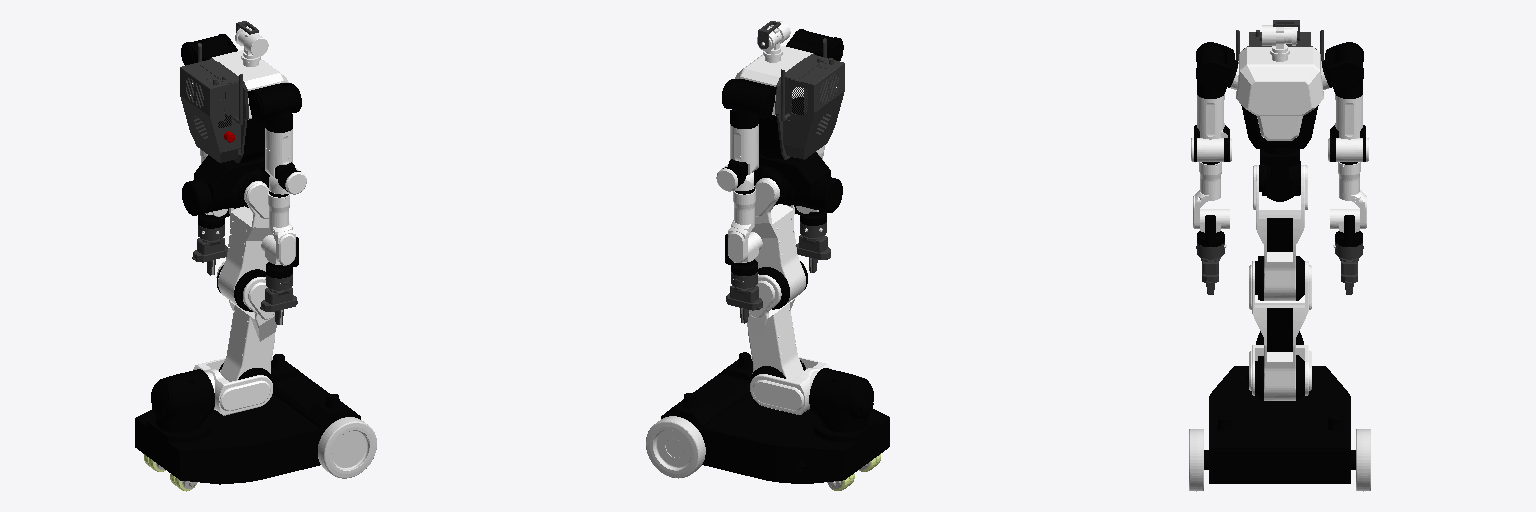
--- Facts derived from the render (not from the file) ---
Views: 3 orthographic renders of the robot side by side, from view 1: azimuth 30°, elevation 25°; view 2: azimuth 150°, elevation 25°; view 3: azimuth 270°, elevation 25°.
Robot: RBY1_A_v1.2 — 32 links, 31 joints (22 revolute, 2 continuous, 4 prismatic, 3 fixed); root link base; default pose: all joints at 0.
Links seen in each view (by area): view 1: base, link_torso_5, link_torso_2, link_torso_1, wheel_r, link_torso_4, link_torso_0, link_right_arm_2, link_right_arm_1, link_right_arm_3, link_right_arm_4, link_right_arm_5 (+6 smaller); view 2: base, link_torso_5, link_torso_2, link_torso_1, wheel_l, link_torso_4, link_torso_0, link_left_arm_2, link_left_arm_1, link_left_arm_3, link_left_arm_4, link_left_arm_5 (+5 smaller); view 3: base, link_torso_5, link_torso_1, link_torso_2, link_torso_4, link_right_arm_2, link_left_arm_2, link_right_arm_3, link_left_arm_3, link_right_arm_0, link_left_arm_0, link_right_arm_5 (+7 smaller).
Link boxes in pixels (box(x1,y1,x2,y2)): base: box(135, 354, 360, 491); link_torso_5: box(180, 43, 288, 162); link_torso_2: box(217, 181, 272, 311); link_torso_1: box(216, 262, 276, 409); wheel_r: box(318, 417, 376, 478); link_torso_4: box(182, 155, 268, 215); link_torso_0: box(193, 358, 272, 415); link_right_arm_2: box(264, 128, 306, 194); link_right_arm_1: box(260, 85, 295, 132); link_right_arm_3: box(267, 168, 298, 225); link_right_arm_4: box(269, 222, 295, 265); link_right_arm_5: box(261, 235, 298, 278); base: box(661, 352, 889, 490); link_torso_5: box(735, 38, 844, 159); link_torso_2: box(751, 178, 807, 309); link_torso_1: box(747, 267, 805, 382); wheel_l: box(646, 416, 705, 478); link_torso_4: box(754, 152, 842, 212); link_torso_0: box(750, 357, 830, 414); link_left_arm_2: box(716, 124, 759, 191); link_left_arm_1: box(727, 81, 763, 128); link_left_arm_3: box(722, 165, 756, 223); link_left_arm_4: box(728, 220, 754, 262); link_left_arm_5: box(725, 232, 762, 275); base: box(1204, 331, 1355, 483); link_torso_5: box(1228, 30, 1331, 151); link_torso_1: box(1249, 261, 1311, 400); link_torso_2: box(1253, 165, 1307, 300); link_torso_4: box(1260, 149, 1299, 201); link_right_arm_2: box(1191, 94, 1231, 161); link_left_arm_2: box(1328, 94, 1368, 161); link_right_arm_3: box(1197, 138, 1227, 193); link_left_arm_3: box(1332, 138, 1362, 193); link_right_arm_0: box(1196, 42, 1235, 92); link_left_arm_0: box(1324, 42, 1363, 92); link_right_arm_5: box(1197, 209, 1229, 246).
Bounding box of the posed robot: 0.6626 × 0.58 × 1.53 m (x, y, z).
32 mesh visuals loaded from 27 distinct referenced files (27 Collada DAE).

The robot description file, URDF, robot "RBY1_A_v1.2":
<?xml version="1.0"?>
<robot name="RBY1_A_v1.2">
    <mobile type="differential" xyz="0.228 0 0" rpy="0 0 0" joints="right_wheel left_wheel"
        params="0.53 0.1" /> <!-- wheel_base, wheel_radius -->

    <link name="base">
        <inertial>
            <mass value="60.08042639" />
            <origin rpy="0 0 0" xyz="-0.06157942 -0.00142271 0.13513861" />
            <inertia ixx="1.37742174" ixy="0.02521789" ixz="0.18565467" iyy="2.99386515" iyz="-0.00641869"
                izz="3.76085052" />
        </inertial>

        <visual>
            <geometry>
                <mesh filename="./meshes/base.dae" />
            </geometry>
        </visual>
    </link>

    <link name="wheel_r">
        <inertial>
            <mass value="1.37783736" />
            <origin rpy="0 0 0" xyz="0.0 -0.00073938 0.0" />
            <inertia ixx="0.00426657" ixy="0.0" ixz="0.0" iyy="0.00811815" iyz="0.0" izz="0.00426657" />
        </inertial>

        <visual>
            <geometry>
                <mesh filename="./meshes/WHEEL.dae" />
            </geometry>
        </visual>
    </link>

    <link name="wheel_l">
        <inertial>
            <mass value="1.37783736" />
            <origin rpy="0 0 0" xyz="0.0 0.00073938 0.0" />
            <inertia ixx="0.00426657" ixy="0.0" ixz="0.0" iyy="0.00811815" iyz="0.0" izz="0.00426657" />
        </inertial>

        <visual>
            <geometry>
                <mesh filename="./meshes/WHEEL.dae" />
            </geometry>
        </visual>
    </link>

    <link name="link_torso_0">
        <inertial>
            <mass value="2.24282123" />
            <origin rpy="0 0 0" xyz="-0.08848415 0.00021367 0.00000046" />
            <inertia ixx="0.01413496" ixy="0.00092982" ixz="-0.00000010" iyy="0.01005357"
                iyz="-0.00000008" izz="0.01892525" />
        </inertial>

        <visual>
            <geometry>
                <mesh filename="./meshes/LINK_1.dae" />
            </geometry>
        </visual>

        <collision>
            <origin xyz="-0.115 0 0" rpy="0 1.5708 0" />
            <geometry>
                <capsule radius="0.105" length="0.230" coltype="1" />
                <!-- <capsule sp="0.0 0.0 0.0" ep="-0.230 0.0 0.0" radius="0.105" length="1"/> -->
            </geometry>
        </collision>
    </link>

    <link name="link_torso_1">
        <inertial>
            <mass value="9.72162676" />
            <origin rpy="0 0 0" xyz="0.00728955 -0.01728522 0.06911380" />
            <inertia ixx="0.14862640" ixy="-0.00142621" ixz="-0.00951385" iyy="0.13854733"
                iyz="-0.00975351" izz="0.02912982" />
        </inertial>

        <visual>
            <geometry>
                <mesh filename="./meshes/LINK_2.dae" />
            </geometry>
        </visual>

        <collision>
            <origin xyz="0.0100 0 0.2400" rpy="0 0 0" />
            <geometry>
                <capsule radius="0.115" length="0.220" coltype="2" />
                <!-- <capsule sp="0.01 0.0 0.130" ep="0.01 0.0 0.350" radius="0.115"/> -->
            </geometry>
        </collision>
    </link>

    <link name="link_torso_2">
        <inertial>
            <mass value="9.21691850" />
            <origin rpy="0 0 0" xyz="0.00653835 -0.01769536 0.05636582" />
            <inertia ixx="0.12162270" ixy="-0.00127910" ixz="-0.00831678" iyy="0.11589190"
                iyz="-0.00873271" izz="0.03094484" />
        </inertial>

        <visual>
            <geometry>
                <mesh filename="./meshes/LINK_3.dae" />
            </geometry>
        </visual>

        <collision>
            <origin xyz="0.0250 0 0.2300" rpy="0 0 0" />
            <geometry>
                <capsule radius="0.095" length="0.1600" coltype="4" />
                <!-- <capsule sp="0.025 0.0 0.15" ep="0.025 0.0 0.310" radius="0.095"/> -->
            </geometry>
        </collision>
    </link>

    <link name="link_torso_3">
        <inertial>
            <mass value="4.18679196" />
            <origin rpy="0 0 0" xyz="-0.00574156 -0.01725975 0.00005610" />
            <inertia ixx="0.00849870" ixy="0.00040861" ixz="-0.00000263" iyy="0.00929513"
                iyz="-0.00001243" izz="0.00955442" />
        </inertial>

        <visual>
            <geometry>
                <mesh filename="./meshes/LINK_4.dae" />
            </geometry>
        </visual>
    </link>

    <link name="link_torso_4">
        <inertial>
            <mass value="4.45566276" />
            <origin rpy="0 0 0" xyz="-0.09097095 0.00005085 0.02601950" />
            <inertia ixx="0.01545991" ixy="0.00001883" ixz="-0.00780349" iyy="0.02550888" iyz="0.00000715"
                izz="0.01952563" />
        </inertial>

        <visual>
            <geometry>
                <mesh filename="./meshes/LINK_5.dae" />
            </geometry>
        </visual>


        <collision>
            <origin xyz="-0.070000 0 0.038500" rpy="0 1.5708 0" />
            <geometry>
                <capsule radius="0.105" length="0.2" coltype="8" />
                <!-- <capsule sp="0.03 0.0 0.0385" ep="-0.170 0.0 0.0385" radius="0.105"/> -->
            </geometry>
        </collision>
    </link>

    <link name="link_torso_5">
        <inertial>
            <mass value="14.73283950" />
            <origin rpy="0 0 0" xyz="-0.03419752 0.00073431 -0.02659420" />
            <inertia ixx="0.23934353" ixy="0.00158316" ixz="0.02926509" iyy="0.23140544" iyz="0.00018390"
                izz="0.18873182" />
        </inertial>

        <visual>
            <geometry>
                <mesh filename="./meshes/LINK_6.dae" />
            </geometry>
        </visual>

        <collision>
            <origin xyz="0 0 0.0075" rpy="0 0 0" />
            <geometry>
                <capsule radius="0.155" length="0.1350" coltype="16" />
                <!-- <capsule sp="0.0 0.0 -0.06" ep="0.0 0.0 0.075" radius="0.155"/> -->
            </geometry>
        </collision>
    </link>

    <link name="link_right_arm_0">
        <inertial>
            <mass value="1.26164242" />
            <origin rpy="0 0 0" xyz="-0.00316662 0.03437181 -0.00000030" />
            <inertia ixx="0.00230621" ixy="0.00039024" ixz="-0.00000256" iyy="0.00426418" iyz="0.00000118"
                izz="0.00432156" />
        </inertial>

        <visual>
            <geometry>
                <mesh filename="./meshes/LINK_7.dae" />
            </geometry>
        </visual>

        <collision>
            <origin xyz="-0.015 0.018 -0.008" rpy="0 1.5708 0" />
            <geometry>
                <capsule radius="0.075" length="0.0700" />
            </geometry>
        </collision>
    </link>

    <link name="link_right_arm_1">
        <inertial>
            <mass value="2.27287031" />
            <origin rpy="0 0 0" xyz="-0.00307855 -0.00124741 -0.01294324" />
            <inertia ixx="0.00388490" ixy="-0.00001477" ixz="0.00011465" iyy="0.00447034"
                iyz="-0.00010023" izz="0.00288341" />
        </inertial>

        <visual>
            <geometry>
                <mesh filename="./meshes/LINK_8.dae" />
            </geometry>
        </visual>

        <collision>
            <origin xyz="0 0 -0.1000" rpy="0 0 0" />
            <geometry>
                <capsule radius="0.05" length="0.2" coltype="32" />
                <!-- <capsule sp="0.0 0.0 0.0" ep="0.0 0.0 -0.200" radius="0.050"/> -->
            </geometry>
        </collision>
    </link>

    <link name="link_right_arm_2">
        <inertial>
            <mass value="2.46909439" />
            <origin rpy="0 0 0" xyz="0.00115434 -0.00196635 -0.16192524" />
            <inertia ixx="0.00980269" ixy="0.00005871" ixz="0.00051888" iyy="0.00924560" iyz="-0.00045932"
                izz="0.00329867" />
        </inertial>

        <visual>
            <geometry>
                <mesh filename="./meshes/LINK_9.dae" />
            </geometry>
        </visual>

        <collision>
            <origin xyz="0.0260 0 -0.2760" rpy="1.5708 0 0" />
            <geometry>
                <capsule radius="0.05" length="0.080000" coltype="64" />
                <!-- <capsule sp="0.026 -0.040 -0.276" ep="0.026 0.040 -0.276" radius="0.05"/> -->
            </geometry>
        </collision>
    </link>

    <link name="link_right_arm_3">
        <inertial>
            <mass value="2.26099493" />
            <origin rpy="0 0 0" xyz="-0.01603135 -0.00692891 -0.04549811" />
            <inertia ixx="0.00822606" ixy="0.00027620" ixz="-0.00156570" iyy="0.00844870" iyz="0.00076157"
                izz="0.00236614" />
        </inertial>

        <visual>
            <geometry>
                <mesh filename="./meshes/LINK_10.dae" />
            </geometry>
        </visual>

        <collision>
            <origin xyz="-0.0310 0 -0.1075" rpy="0 0 0" />
            <geometry>
                <capsule radius="0.04" length="0.1150" coltype="128" colaffinity="30" />
                <!-- <capsule sp="-0.031 0.0 -0.05" ep="-0.031 0.0 -0.165" radius="0.04"/> -->
            </geometry>
        </collision>
    </link>

    <link name="link_right_arm_4">
        <inertial>
            <mass value="0.42508710" />
            <origin rpy="0 0 0" xyz="-0.00000011 -0.02696036 0.06182110" />
            <inertia ixx="0.00082466" ixy="0.0" ixz="0.0" iyy="0.00075398" iyz="-0.00025338"
                izz="0.00039794" />
        </inertial>

        <visual>
            <geometry>
                <mesh filename="./meshes/LINK_11.dae" />
            </geometry>
        </visual>

        <collision>
            <origin xyz="0 -0.038 0.0175" rpy="0 0 0" />
            <geometry>
                <capsule radius="0.035" length="0.095" coltype="256" colaffinity="30" />
            </geometry>
        </collision>
    </link>

    <link name="link_right_arm_5">
        <inertial>
            <mass value="1.60506693" />
            <origin rpy="0 0 0" xyz="0.00592642 -0.00537804 -0.02584713" />
            <inertia ixx="0.00247557" ixy="-0.00004984" ixz="-0.00009861" iyy="0.00268241"
                iyz="0.00021452" izz="0.00166724" />
        </inertial>

        <visual>
            <geometry>
                <mesh filename="./meshes/LINK_12_v1.1.dae" />
            </geometry>
        </visual>

        <collision>
            <origin xyz="0 0 -0.1" rpy="0 0 0" />
            <geometry>
                <capsule radius="0.075" length="0.25" coltype="512" colaffinity="31" />
                <!-- <capsule sp="0.0 0.0 0.002" ep="0.0 0.0 -0.050" radius="0.075"/> -->
            </geometry>
        </collision>
    </link>

    <link name="link_right_arm_6">
        <inertial>
            <mass value="0.42751673" />
            <origin rpy="0 0 0" xyz="0.00024951 -0.00019562 -0.10711314" />
            <inertia ixx="0.00029613" ixy="-0.00000186" ixz="-0.00000157" iyy="0.00030651"
                iyz="0.00000221" izz="0.00048946" />
        </inertial>

        <visual>
            <geometry>
                <mesh filename="./meshes/LINK_13_v1.1.dae" />
            </geometry>
        </visual>
    </link>

    <link name="link_left_arm_0">
        <inertial>
            <mass value="1.26164242" />
            <origin rpy="0 0 0" xyz="-0.00316662 -0.03437151 0.00000242" />
            <inertia ixx="0.00230624" ixy="-0.00039022" ixz="0.00000269" iyy="0.00426418" iyz="0.00000108"
                izz="0.00432159" />
        </inertial>

        <visual>
            <geometry>
                <mesh filename="./meshes/LINK_14.dae" />
            </geometry>
        </visual>

        <collision>
            <origin xyz="-0.015 -0.018 -0.008" rpy="0 1.5708 0" />
            <geometry>
                <capsule radius="0.075" length="0.0700" />
            </geometry>
        </collision>
    </link>

    <link name="link_left_arm_1">
        <inertial>
            <mass value="1.88138658" />
            <origin rpy="0 0 0" xyz="-0.00183470 0.00040596 -0.01008733" />
            <inertia ixx="0.00295838" ixy="-0.00001176" ixz="0.00006949" iyy="0.00355208" iyz="0.00004467"
                izz="0.00230558" />
        </inertial>

        <visual>
            <geometry>
                <mesh filename="./meshes/LINK_15.dae" />
            </geometry>
        </visual>

        <collision>
            <origin xyz="0 0 -0.1000" rpy="0 0 0" />
            <geometry>
                <capsule radius="0.050" length="0.2000" colaffinity="768" />
            </geometry>
        </collision>
    </link>

    <link name="link_left_arm_2">
        <inertial>
            <mass value="2.35634437" />
            <origin rpy="0 0 0" xyz="0.00066086 -0.00038583 -0.15742972" />
            <inertia ixx="0.00842712" ixy="0.00000247" ixz="0.00036948" iyy="0.00802311" iyz="-0.00006550"
                izz="0.00295678" />
        </inertial>

        <visual>
            <geometry>
                <mesh filename="./meshes/LINK_16.dae" />
            </geometry>
        </visual>

        <collision>
            <origin xyz="0.0260 0 -0.2760" rpy="1.5708 0 0" />
            <geometry>
                <capsule radius="0.05" length="0.080000" colaffinity="768" />
            </geometry>
        </collision>
    </link>

    <link name="link_left_arm_3">
        <inertial>
            <mass value="2.00905891" />
            <origin rpy="0 0 0" xyz="-0.01565298 0.00793126 -0.04997943" />
            <inertia ixx="0.00756474" ixy="-0.00026771" ixz="-0.00155419" iyy="0.00772758"
                iyz="-0.00084364" izz="0.00199754" />
        </inertial>

        <visual>
            <geometry>
                <mesh filename="./meshes/LINK_17.dae" />
            </geometry>
        </visual>

        <collision>
            <origin xyz="-0.0310 0 -0.1075" rpy="0 0 0" />
            <geometry>
                <capsule radius="0.04" length="0.1150" colaffinity="926" />
            </geometry>
        </collision>
    </link>

    <link name="link_left_arm_4">
        <inertial>
            <mass value="0.42508710" />
            <origin rpy="0 0 0" xyz="0.00000011 0.02696036 0.06182110" />
            <inertia ixx="0.00082466" ixy="0.0" ixz="0.0" iyy="0.00075398" iyz="0.00025338"
                izz="0.00039794" />
        </inertial>

        <visual>
            <geometry>
                <mesh filename="./meshes/LINK_18.dae" />
            </geometry>
        </visual>

        <collision>
            <origin xyz="0 0.038000 0.017500" rpy="0 0 0" />
            <geometry>
                <capsule radius="0.035" length="0.095000" colaffinity="1022" />
            </geometry>
        </collision>
    </link>

    <link name="link_left_arm_5">
        <inertial>
            <mass value="1.60424243" />
            <origin rpy="0 0 0" xyz="0.00592398 -0.01167056 -0.02584035" />
            <inertia ixx="0.00247523" ixy="-0.00004992" ixz="-0.00009867" iyy="0.00268221"
                iyz="0.00021464" izz="0.00166703" />
        </inertial>

        <visual>
            <geometry>
                <mesh filename="./meshes/LINK_19_v1.1.dae" />
            </geometry>
        </visual>

        <collision>
            <origin xyz="0 0 -0.1" rpy="0 0 0" />
            <geometry>
                <capsule radius="0.075" length="0.25" colaffinity="1023" />
            </geometry>
        </collision>
    </link>

    <link name="link_left_arm_6">
        <inertial>
            <mass value="0.42751673" />
            <origin rpy="0 0 0" xyz="-0.00024951 0.00019562 -0.10711314" />
            <inertia ixx="0.00029613" ixy="-0.00000186" ixz="0.00000157" iyy="0.00030651"
                iyz="-0.00000221" izz="0.00048946" />
        </inertial>

        <visual>
            <geometry>
                <mesh filename="./meshes/LINK_20_v1.1.dae" />
            </geometry>
        </visual>
    </link>

    <link name="ee_right">
        <inertial>
            <mass value="0.46704998" />
            <origin rpy="0 0 0" xyz="0.00212703 0.00000615 -0.04287176" />
            <inertia ixx="0.00032067" ixy="0.00002383" ixz="-0.00000785" iyy="0.00059559"
                iyz="-0.00000007" izz="0.00052732" />
        </inertial>

        <visual>
            <geometry>
                <mesh filename="./meshes/EE_BODY.dae" />
            </geometry>
        </visual>
    </link>

    <link name="ee_finger_r1">
        <inertial>
            <mass value="0.03326999" />
            <origin rpy="0 0 0" xyz="0.00278346 -0.00000329 -0.02570112" />
            <inertia ixx="0.00001231" ixy="0.0" ixz="-0.00000042" iyy="0.00001066" iyz="0.0"
                izz="0.00000224" />
        </inertial>

        <visual>
            <geometry>
                <mesh filename="./meshes/EE_FINGER.dae" />
            </geometry>
        </visual>
    </link>

    <link name="ee_finger_r2">
        <inertial>
            <mass value="0.03326999" />
            <origin rpy="0 0 0" xyz="0.00278346 -0.00000329 -0.02570112" />
            <inertia ixx="0.00001231" ixy="0.0" ixz="-0.00000042" iyy="0.00001066" iyz="0.0"
                izz="0.00000224" />
        </inertial>

        <visual>
            <geometry>
                <mesh filename="./meshes/EE_FINGER.dae" />
            </geometry>
        </visual>
    </link>

    <link name="ee_left">
        <inertial>
            <mass value="0.46704998" />
            <origin rpy="0 0 0" xyz="0.00212703 0.00000615 -0.04287176" />
            <inertia ixx="0.00032067" ixy="0.00002383" ixz="-0.00000785" iyy="0.00059559"
                iyz="-0.00000007" izz="0.00052732" />
        </inertial>

        <visual>
            <geometry>
                <mesh filename="./meshes/EE_BODY.dae" />
            </geometry>
        </visual>
    </link>

    <link name="ee_finger_l1">
        <inertial>
            <mass value="0.03326999" />
            <origin rpy="0 0 0" xyz="0.00278346 -0.00000329 -0.02570112" />
            <inertia ixx="0.00001231" ixy="0.0" ixz="-0.00000042" iyy="0.00001066" iyz="0.0"
                izz="0.00000224" />
        </inertial>

        <visual>
            <geometry>
                <mesh filename="./meshes/EE_FINGER.dae" />
            </geometry>
        </visual>
    </link>

    <link name="ee_finger_l2">
        <inertial>
            <mass value="0.03326999" />
            <origin rpy="0 0 0" xyz="0.00278346 -0.00000329 -0.02570112" />
            <inertia ixx="0.00001231" ixy="0.0" ixz="-0.00000042" iyy="0.00001066" iyz="0.0"
                izz="0.00000224" />
        </inertial>

        <visual>
            <geometry>
                <mesh filename="./meshes/EE_FINGER.dae" />
            </geometry>
        </visual>
    </link>

    <link name="link_head_0">
        <inertial>
            <mass value="0.65731648" />
            <origin rpy="0 0 0" xyz="0.00024733 0.00033306 -0.01029730" />
            <inertia ixx="0.00046241" ixy="0.00000182" ixz="0.00001119" iyy="0.00043223" iyz="0.00000061"
                izz="0.00027509" />
        </inertial>

        <visual>
            <geometry>
                <mesh filename="./meshes/NECK_0.dae" />
            </geometry>
        </visual>
    </link>

    <link name="link_head_1">
        <inertial>
            <mass value="0.70476502" />
            <origin rpy="0 0 0" xyz="-0.00041643 0.00593524 -0.00289916" />
            <inertia ixx="0.00066212" ixy="-0.00000515" ixz="0.00000093" iyy="0.00036078"
                iyz="-0.00001312" izz="0.00059265" />
        </inertial>

        <visual>
            <geometry>
                <mesh filename="./meshes/NECK_1.dae" />
            </geometry>
        </visual>
    </link>

    <link name="link_head_2">
        <inertial>
            <mass value="0.95262738" />
            <origin rpy="0 0 0" xyz="0.05315320 0.00547509 0.05913909" />
            <inertia ixx="0.00114243" ixy="0.00027678" ixz="-0.00035426" iyy="0.00107559" iyz="0.00023641"
                izz="0.00151415" />
        </inertial>

        <visual>
            <geometry>
                <mesh filename="./meshes/NECK_2.dae" />
            </geometry>
        </visual>
    </link>


    <!-- Joints -->
    <joint name="right_wheel" type="continuous">
        <parent link="base" />
        <child link="wheel_r" />
        <origin rpy="0.0 0.0 0.0" xyz="0.228 -0.265 0.1" />
        <axis xyz="0 -1 0" />
        <limit velocity="15.707963268" acceleration="3.141592" />
    </joint>

    <joint name="left_wheel" type="continuous">
        <parent link="base" />
        <child link="wheel_l" />
        <origin rpy="0.0 0.0 0.0" xyz="0.228 0.265 0.1" />
        <axis xyz="0 -1 0" />
        <limit velocity="15.707963268" acceleration="3.141592" />
    </joint>

    <joint name="torso_0" type="revolute">
        <parent link="base" />
        <child link="link_torso_0" />
        <origin rpy="0.0 0.0 0.0" xyz="0.0 0.0 0.2805" />
        <axis xyz="1 0 0" />
        <!-- Nm, rad/s^2, rad/s, (min) rad, (max) rad -->
        <!-- 270Nm, 5rad/s^2, 120deg/s, -15deg, 15deg -->
        <limit effort="270.0"
            acceleration="5.0"
            velocity="2.09439510"
            lower="-0.261799388"
            upper="0.261799388"
        />
    </joint>

    <joint name="torso_1" type="revolute">
        <parent link="link_torso_0" />
        <child link="link_torso_1" />
        <origin rpy="0.0 0.0 0.0" xyz="0.0 0.0 0.0" />
        <axis xyz="0 1 0" />
        <!-- Nm, rad/s^2, rad/s, (min) rad, (max) rad -->
        <!-- 270Nm, 5rad/s^2, 120deg/s, -30deg, 90deg -->
        <limit effort="270.0"
            acceleration="5.0"
            velocity="2.09439510"
            lower="-0.523598776"
            upper="1.570796327"
        />
    </joint>

    <joint name="torso_2" type="revolute">
        <parent link="link_torso_1" />
        <child link="link_torso_2" />
        <origin rpy="0.0 0.0 0.0" xyz="0.0 0.0 0.350" />
        <axis xyz="0 1 0" />
        <!-- Nm, rad/s^2, rad/s, (min) rad, (max) rad -->
        <!-- 270Nm, 5rad/s^2, 120deg/s, -150deg, 90deg -->
        <limit effort="270.0"
            acceleration="5.0"
            velocity="2.09439510"
            lower="-2.617993878"
            upper="1.570796327"
        />
    </joint>

    <joint name="torso_3" type="revolute">
        <parent link="link_torso_2" />
        <child link="link_torso_3" />
        <origin rpy="0.0 0.0 0.0" xyz="0.0 0.0 0.350" />
        <axis xyz="0 1 0" />
        <!-- Nm, rad/s^2, rad/s, (min) rad, (max) rad -->
        <!-- 120Nm, 5rad/s^2, 180deg/s, -45deg, 90deg -->
        <limit effort="120.0"
            acceleration="5.0"
            velocity="3.141592654"
            lower="-0.785398163"
            upper="1.570796327"
        />
    </joint>

    <joint name="torso_4" type="revolute">
        <parent link="link_torso_3" />
        <child link="link_torso_4" />
        <origin rpy="0.0 0.0 0.0" xyz="0.0 0.0 0.0" />
        <axis xyz="1 0 0" />
        <!-- Nm, rad/s^2, rad/s, (min) rad, (max) rad -->
        <!-- 120Nm, 5rad/s^2, 180deg/s, -30deg, 30deg -->
        <limit effort="120.0"
            acceleration="5.0"
            velocity="3.141592654"
            lower="-0.523598776"
            upper="0.523598776"
        />
    </joint>

    <joint name="torso_5" type="revolute">
        <parent link="link_torso_4" />
        <child link="link_torso_5" />
        <origin rpy="0.0 0.0 0.0" xyz="0.0 0.0 0.309426548461" />
        <axis xyz="0 0 1" />
        <!-- Nm, rad/s^2, rad/s, (min) rad, (max) rad -->
        <!-- 120Nm, 5rad/s^2, 180deg/s, -135deg, 135deg -->
        <limit effort="120.0"
            acceleration="5.0"
            velocity="3.141592654"
            lower="-2.35619449"
            upper="2.35619449"
        />
    </joint>

    <joint name="right_arm_0" type="revolute">
        <parent link="link_torso_5" />
        <child link="link_right_arm_0" />
        <origin rpy="0.0 0.0 0.0" xyz="0.0 -0.220 0.080073451539 " />
        <axis xyz="0.0 0.93969262 -0.34202014" />
        <!-- Nm, rad/s^2, rad/s, (min) rad, (max) rad -->
        <!-- 70Nm, 10rad/s^2, 180deg/s, -180deg, 180deg -->
        <limit effort="70.0"
            acceleration="10.0"
            velocity="3.141592654"
            lower="-3.141592654"
            upper="3.141592654"
        />
    </joint>

    <joint name="right_arm_1" type="revolute">
        <parent link="link_right_arm_0" />
        <child link="link_right_arm_1" />
        <origin rpy="0.0 0.0 0.0" xyz="0.0 0.0 0.0" />
        <axis xyz="1 0 0" />
        <!-- Nm, rad/s^2, rad/s, (min) rad, (max) rad -->
        <!-- 70Nm, 10rad/s^2, 180deg/s, -180deg, 1deg -->
        <limit effort="70.0"
            acceleration="10.0"
            velocity="3.141592654"
            lower="-3.141592654"
            upper="0.017453293"
        />
    </joint>

    <joint name="right_arm_2" type="revolute">
        <parent link="link_right_arm_1" />
        <child link="link_right_arm_2" />
        <origin rpy="0.0 0.0 0.0" xyz="0.0 0.0 0.0" />
        <axis xyz="0 0 1" />
        <!-- Nm, rad/s^2, rad/s, (min) rad, (max) rad -->
        <!-- 70Nm, 10rad/s^2, 180deg/s, -180deg, 180deg -->
        <limit effort="70.0"
            acceleration="10.0"
            velocity="3.141592654"
            lower="-3.141592654"
            upper="3.141592654"
        />
    </joint>

    <joint name="right_arm_3" type="revolute">
        <parent link="link_right_arm_2" />
        <child link="link_right_arm_3" />
        <origin rpy="0.0 0.0 0.0" xyz="0.031 0.0 -0.276" />
        <axis xyz="0 1 0" />
        <!-- Nm, rad/s^2, rad/s, (min) rad, (max) rad -->
        <!-- 40Nm, 10rad/s^2, 180deg/s, -150deg, 1deg -->
        <limit effort="40.0"
            acceleration="10.0"
            velocity="3.141592654"
            lower="-2.617993878"
            upper="0.017453293"
        />
    </joint>

    <joint name="right_arm_4" type="revolute">
        <parent link="link_right_arm_3" />
        <child link="link_right_arm_4" />
        <origin rpy="0.0 0.0 0.0" xyz="-0.031 0.0 -0.256" />
        <axis xyz="0 0 1" />
        <!-- Nm, rad/s^2, rad/s, (min) rad, (max) rad -->
        <!-- 10Nm, 10rad/s^2, 360deg/s, -180deg, 180deg -->
        <limit effort="10.0"
            acceleration="10.0"
            velocity="6.283185308"
            lower="-3.141592654"
            upper="3.141592654"
        />
    </joint>

    <joint name="right_arm_5" type="revolute">
        <parent link="link_right_arm_4" />
        <child link="link_right_arm_5" />
        <origin rpy="0.0 0.0 0.0" xyz="0.0 0.0 0.0" />
        <axis xyz="0 1 0" />
        <!-- Nm, rad/s^2, rad/s, (min) rad, (max) rad -->
        <!-- 10Nm, 10rad/s^2, 360deg/s, -90deg, 110deg -->
        <limit effort="10.0"
            acceleration="10.0"
            velocity="6.283185308"
            lower="-1.570796327"
            upper="1.919862177"
        />
    </joint>

    <joint name="right_arm_6" type="revolute">
        <parent link="link_right_arm_5" />
        <child link="link_right_arm_6" />
        <origin rpy="0.0 0.0 0.0" xyz="0.0 0.0 0.0" />
        <axis xyz="0 0 1" />
        <!-- Nm, rad/s^2, rad/s, (min) rad, (max) rad -->
        <!-- 8Nm, 10rad/s^2, 120deg/s, -155deg, 155deg -->
        <limit effort="8.0"
            acceleration="10.0"
            velocity="2.094395102"
            lower="-2.705260340"
            upper="2.705260340"
        />
    </joint>

    <joint name="left_arm_0" type="revolute">
        <parent link="link_torso_5" />
        <child link="link_left_arm_0" />
        <origin rpy="0.0 0.0 0.0" xyz="0.0 0.220 0.080073452 " />
        <axis xyz="0.0 0.93969262 0.34202014" />
        <!-- Nm, rad/s^2, rad/s, (min) rad, (max) rad -->
        <!-- 70Nm, 10rad/s^2, 180deg/s, -180deg, 180deg -->
        <limit effort="70.0"
            acceleration="10.0"
            velocity="3.141592654"
            lower="-3.141592654"
            upper="3.141592654"
        />
    </joint>

    <joint name="left_arm_1" type="revolute">
        <parent link="link_left_arm_0" />
        <child link="link_left_arm_1" />
        <origin rpy="0.0 0.0 0.0" xyz="0.0 0.0 0.0" />
        <axis xyz="1 0 0" />
        <!-- Nm, rad/s^2, rad/s, (min) rad, (max) rad -->
        <!-- 70Nm, 10rad/s^2, 180deg/s, -1deg, 180deg -->
        <limit effort="70.0"
            acceleration="10.0"
            velocity="3.141592654"
            lower="-0.017453293"
            upper="3.141592654"
        />
    </joint>

    <joint name="left_arm_2" type="revolute">
        <parent link="link_left_arm_1" />
        <child link="link_left_arm_2" />
        <origin rpy="0.0 0.0 0.0" xyz="0.0 0.0 0.0" />
        <axis xyz="0 0 1" />
        <!-- Nm, rad/s^2, rad/s, (min) rad, (max) rad -->
        <!-- 70Nm, 10rad/s^2, 180deg/s, -180deg, 180deg -->
        <limit effort="70.0"
            acceleration="10.0"
            velocity="3.141592654"
            lower="-3.141592654"
            upper="3.141592654"
        />
    </joint>

    <joint name="left_arm_3" type="revolute">
        <parent link="link_left_arm_2" />
        <child link="link_left_arm_3" />
        <origin rpy="0.0 0.0 0.0" xyz="0.031 0.0 -0.276" />
        <axis xyz="0 1 0" />
        <!-- Nm, rad/s^2, rad/s, (min) rad, (max) rad -->
        <!-- 40Nm, 10rad/s^2, 180deg/s, -150deg, 1deg -->
        <limit effort="40.0"
            acceleration="10.0"
            velocity="3.141592654"
            lower="-2.617993878"
            upper="0.017453293"
        />
    </joint>

    <joint name="left_arm_4" type="revolute">
        <parent link="link_left_arm_3" />
        <child link="link_left_arm_4" />
        <origin rpy="0.0 0.0 0.0" xyz="-0.031 0.0 -0.256" />
        <axis xyz="0 0 1" />
        <!-- Nm, rad/s^2, rad/s, (min) rad, (max) rad -->
        <!-- 10Nm, 10rad/s^2, 360deg/s, -180deg, 180deg -->
        <limit effort="10.0"
            acceleration="10.0"
            velocity="6.283185308"
            lower="-3.141592654"
            upper="3.141592654"
        />
    </joint>

    <joint name="left_arm_5" type="revolute">
        <parent link="link_left_arm_4" />
        <child link="link_left_arm_5" />
        <origin rpy="0.0 0.0 0.0" xyz="0.0 0.0 0.0" />
        <axis xyz="0 1 0" />
        <!-- Nm, rad/s^2, rad/s, (min) rad, (max) rad -->
        <!-- 10Nm, 10rad/s^2, 360deg/s, -90deg, 110deg -->
        <limit effort="10.0"
            acceleration="10.0"
            velocity="6.283185308"
            lower="-1.570796327"
            upper="1.919862177"
        />
    </joint>

    <joint name="left_arm_6" type="revolute">
        <parent link="link_left_arm_5" />
        <child link="link_left_arm_6" />
        <origin rpy="0.0 0.0 0.0" xyz="0.0 0.0 0.0" />
        <axis xyz="0 0 1" />
        <!-- Nm, rad/s^2, rad/s, (min) rad, (max) rad -->
        <!-- 8Nm, 10rad/s^2, 120deg/s, -155deg, 155deg -->
        <limit effort="8.0"
            acceleration="10.0"
            velocity="2.094395102"
            lower="-2.705260340"
            upper="2.705260340"
        />
    </joint>

    <joint name="tool_right" type="fixed">
        <parent link="link_right_arm_6" />
        <child link="ee_right" />
        <origin rpy="0.0 0.0 0.0" xyz="0.0 0.0 -0.1261" />
        <axis xyz="0 0 1" />
    </joint>

    <joint name="gripper_finger_r1" type="prismatic" in_model_type="fixed">
        <parent link="ee_right" />
        <child link="ee_finger_r1" />
        <origin rpy="0.0 0.0 0.0" xyz="0.003 0.0 -0.075" />
        <axis xyz="-1 0 0" />
        <limit effort="1000" velocity="0.05" lower="-0.05" upper="0" />
    </joint>

    <joint name="gripper_finger_r2" type="prismatic" in_model_type="fixed">
        <parent link="ee_right" />
        <child link="ee_finger_r2" />
        <origin rpy="0.0 0.0 3.1415926535" xyz="-0.003 0.0 -0.075" />
        <axis xyz="1 0 0" />
        <limit effort="1000" velocity="0.05" lower="0" upper="0.05" />
    </joint>

    <joint name="tool_left" type="fixed">
        <parent link="link_left_arm_6" />
        <child link="ee_left" />
        <origin rpy="0.0 0.0 0" xyz="0.0 0.0 -0.1261" />
        <axis xyz="0 0 1" />
    </joint>

    <joint name="gripper_finger_l1" type="prismatic" in_model_type="fixed">
        <parent link="ee_left" />
        <child link="ee_finger_l1" />
        <origin rpy="0.0 0.0 0.0" xyz="0.003 0.0 -0.075" />
        <axis xyz="-1 0 0" />
        <limit effort="1000" velocity="0.05" lower="-0.05" upper="0" />
    </joint>

    <joint name="gripper_finger_l2" type="prismatic" in_model_type="fixed">
        <parent link="ee_left" />
        <child link="ee_finger_l2" />
        <origin rpy="0.0 0.0 3.1415926535" xyz="-0.003 0.0 -0.075" />
        <axis xyz="1 0 0" />
        <limit effort="1000" velocity="0.05" lower="0" upper="0.05" />
    </joint>

    <joint name="head_base" type="fixed">
        <parent link="link_torso_5" />
        <child link="link_head_0" />
        <origin rpy="0.0 0.0 0.0" xyz="0.022 0.0 0.120073451525" />
        <axis xyz="0 0 1" />
    </joint>

    <joint name="head_0" type="revolute">
        <parent link="link_head_0" />
        <child link="link_head_1" />
        <origin rpy="0.0 0.0 0.0" xyz="0.0 0.0 0.080" />
        <axis xyz="0 0 1" />
        <limit effort="1000" velocity="3.14" lower="-1.57" upper="1.57" />
    </joint>

    <joint name="head_1" type="revolute">
        <parent link="link_head_1" />
        <child link="link_head_2" />
        <origin rpy="0.0 0.0 0.0" xyz="0.0 0.0 0.0" />
        <axis xyz="0 1 0" />
        <limit effort="1000" velocity="3.14" lower="-1.57" upper="1.57" />
    </joint>

    <!-- <joint name="head_mount" type="fixed">
      <parent link="link_head_2"/>
      <child link="Arbitrary device"/>
      <origin rpy="0.0 0.0 0.0" xyz="0.022 0.0 0.04"/>
      <axis xyz="0 0 1"/>
    </joint> -->

</robot>
